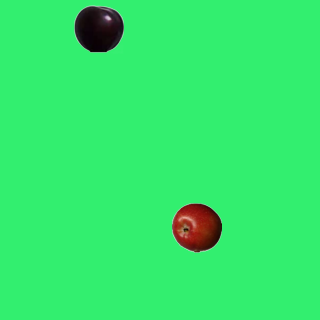Apple Braeburn: (171, 202, 221, 252)
Cherry Wax Black: (73, 3, 123, 53)
